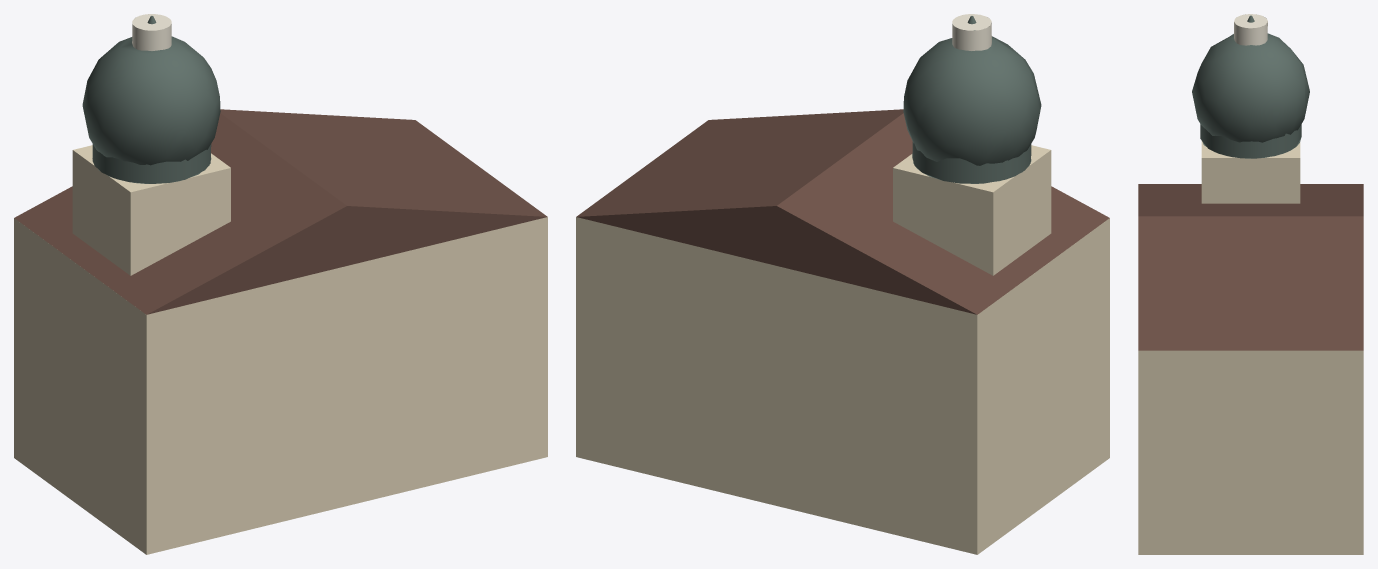
File: d-ce-01-baroque-church-onion.lod1.glb
The picture shows the model from 3 angles, left to right: view 1: azimuth 30°, elevation 25°; view 2: azimuth 150°, elevation 25°; view 3: azimuth 270°, elevation 25°; orthographic projection. The views are drawn at different scales.
Visible parts, largest first — view 1: part0, part1, part4, part2, part3, part6; view 2: part0, part1, part4, part2, part3, part6; view 3: part0, part1, part4, part2, part3, part6.
Part boxes in pixels (x1,y1,x2,y2): part0: [14, 217, 547, 554]; part1: [14, 109, 547, 314]; part4: [82, 36, 220, 165]; part2: [72, 145, 230, 275]; part3: [92, 144, 211, 183]; part6: [132, 14, 171, 50]; part0: [576, 217, 1109, 554]; part1: [576, 109, 1109, 314]; part4: [903, 36, 1041, 165]; part2: [893, 145, 1051, 275]; part3: [912, 142, 1031, 183]; part6: [952, 14, 991, 50]; part0: [1138, 350, 1363, 554]; part1: [1138, 184, 1363, 350]; part4: [1192, 33, 1309, 142]; part2: [1201, 141, 1300, 203]; part3: [1200, 124, 1301, 158]; part6: [1234, 14, 1267, 45].
Bounding box in the file's own units: 28000 × 31501 × 16002.
